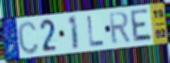1: (68, 14, 81, 51)
2: (40, 18, 60, 54)
C: (16, 19, 40, 56)
E: (130, 8, 154, 44)
L: (86, 15, 106, 48)
R: (108, 11, 132, 46)
